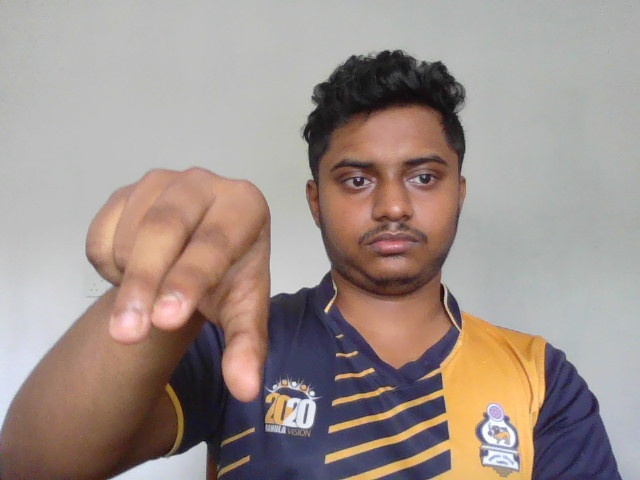No: (81, 162, 274, 400)
